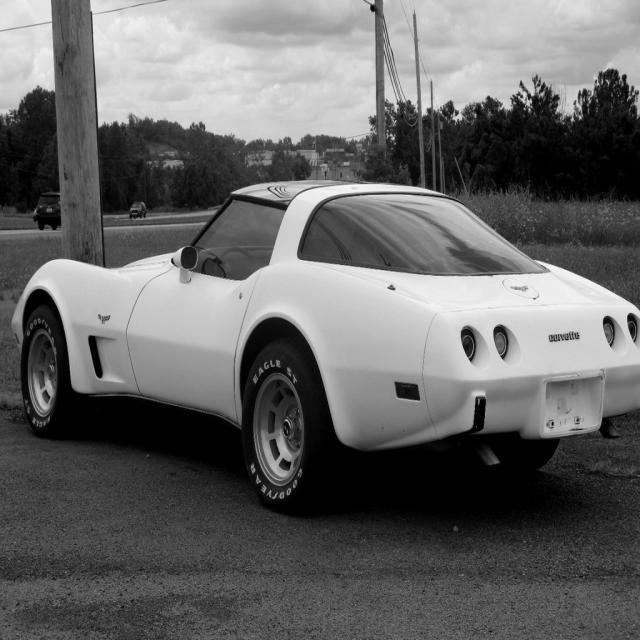car: (1, 178, 637, 519), (128, 196, 150, 222)
